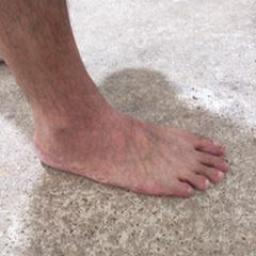Lateral View -Right Foot-: (17, 69, 235, 204)
